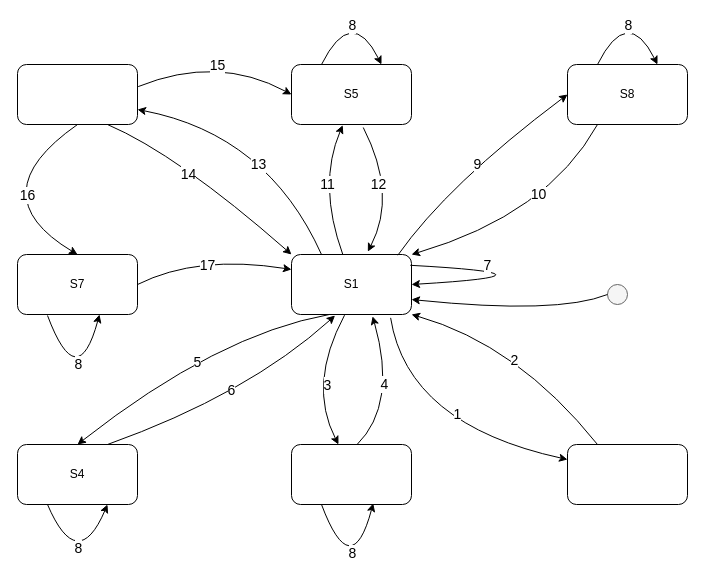
This 705x580 diagram has some shape labels left out. The centre of each missing label's shape, as x and y in pixels:
"S2" belongs at pixel 627 474.
"S3" belongs at pixel 351 474.
"S6" belongs at pixel 77 94.
